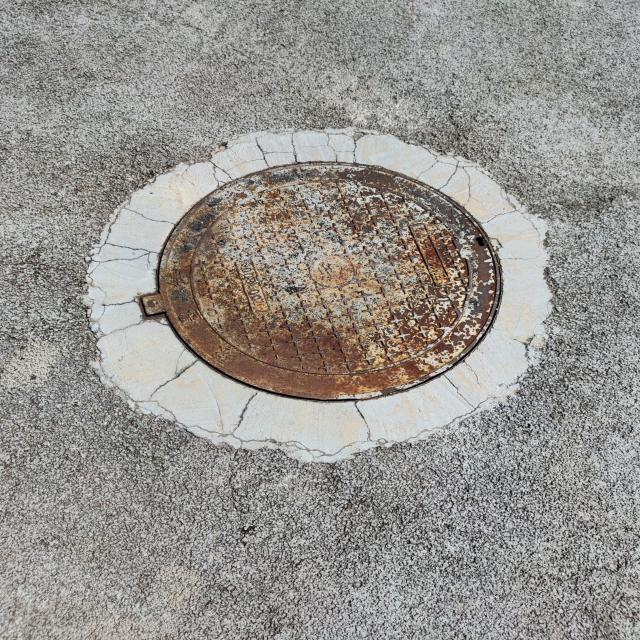Good: (132, 152, 516, 410)
